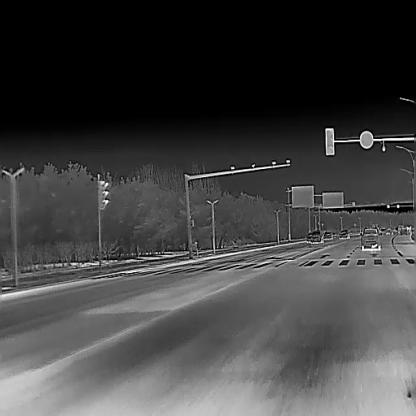car: (360, 228, 380, 250), (310, 230, 322, 243), (339, 229, 349, 239), (322, 231, 333, 239), (306, 232, 312, 242)
